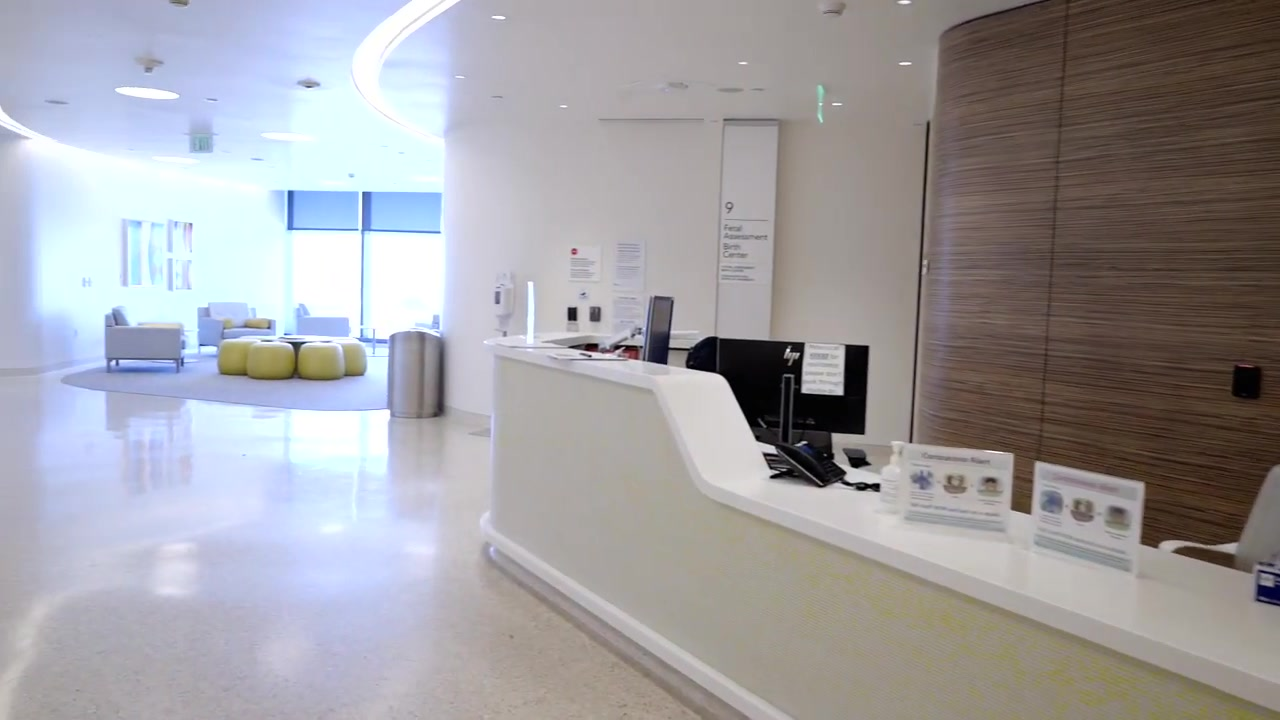chair: (1160, 457, 1280, 601), (297, 341, 348, 382), (246, 341, 296, 379), (212, 339, 248, 381), (337, 341, 372, 370)
computer: (716, 336, 870, 436), (639, 295, 675, 366)
counter: (471, 331, 1258, 720)
countertop: (493, 334, 1052, 543)
dispenser: (491, 272, 515, 332)
mouse: (842, 448, 866, 467)
sofa: (104, 306, 187, 372), (197, 302, 276, 353), (294, 303, 353, 337)
table: (264, 329, 349, 350)
telephone: (775, 441, 847, 489)
waste_bin: (386, 328, 444, 419)
